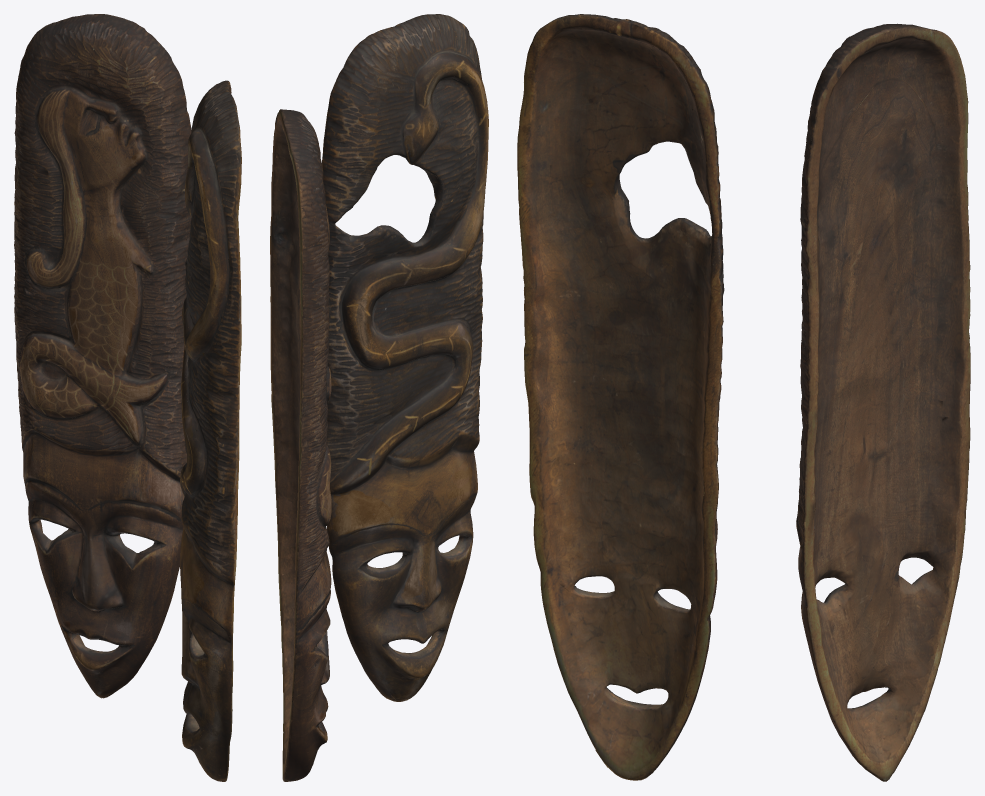
The model's file is masks.glb.
3 views of the same model, side by side, from view 1: azimuth 30°, elevation 25°; view 2: azimuth 150°, elevation 25°; view 3: azimuth 270°, elevation 25° (orthographic). The views are drawn at different scales.
Visible parts, largest first — view 1: Object_2, Object_3; view 2: Object_3, Object_2; view 3: Object_3, Object_2.
Boxes of the visible parts, x1=… form: Object_2: x1=14, y1=14, x2=191, y2=698; Object_3: x1=180, y1=80, x2=241, y2=781; Object_3: x1=322, y1=14, x2=488, y2=701; Object_2: x1=270, y1=109, x2=331, y2=781; Object_3: x1=517, y1=14, x2=724, y2=780; Object_2: x1=796, y1=23, x2=970, y2=781.
Size of the model in its own units: 3.01 by 17.1 by 9.22.
Materials: 2 (2 with a texture image).
